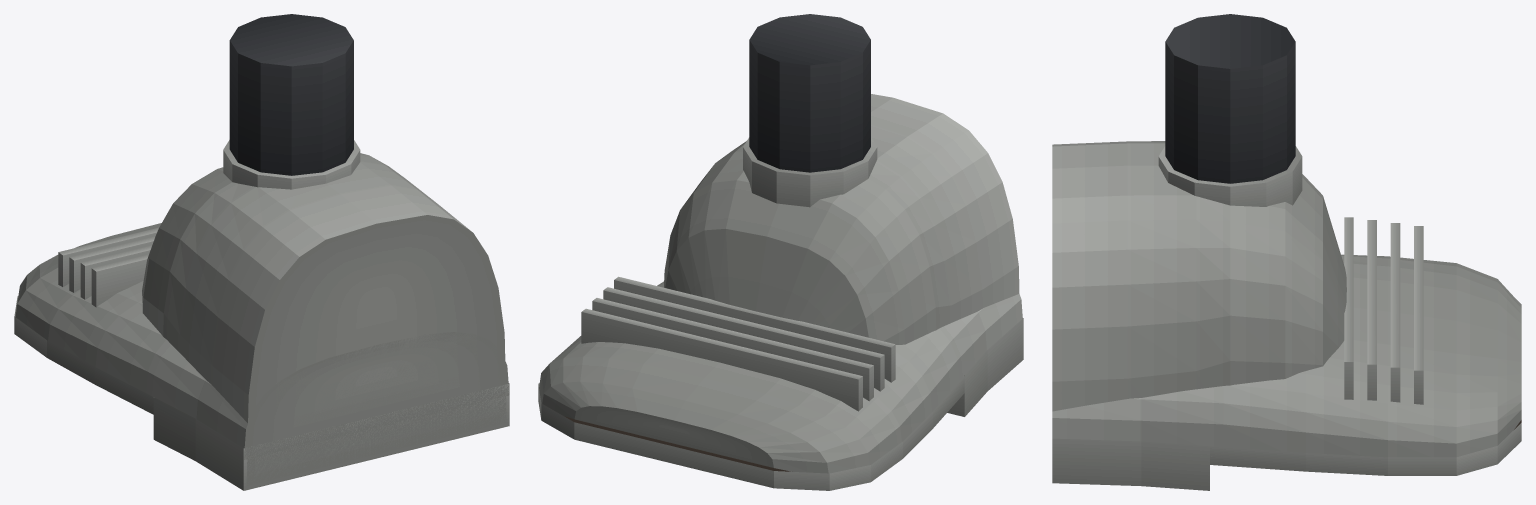
Rendered from streetlight_geesn.obj.
The picture shows the model from 3 angles, left to right: view 1: azimuth 30°, elevation 25°; view 2: azimuth 150°, elevation 25°; view 3: azimuth 270°, elevation 25°; orthographic projection. The views are drawn at different scales.
Parts seen in each view (by area): view 1: fixture; view 2: fixture; view 3: fixture.
Boxes of the visible parts, x1,y1,x2,y2 form: fixture: (14, 14, 509, 490); fixture: (538, 14, 1023, 490); fixture: (1052, 14, 1521, 490).
Bounding box in the file's own units: 0.375 × 0.3762 × 0.4281.
